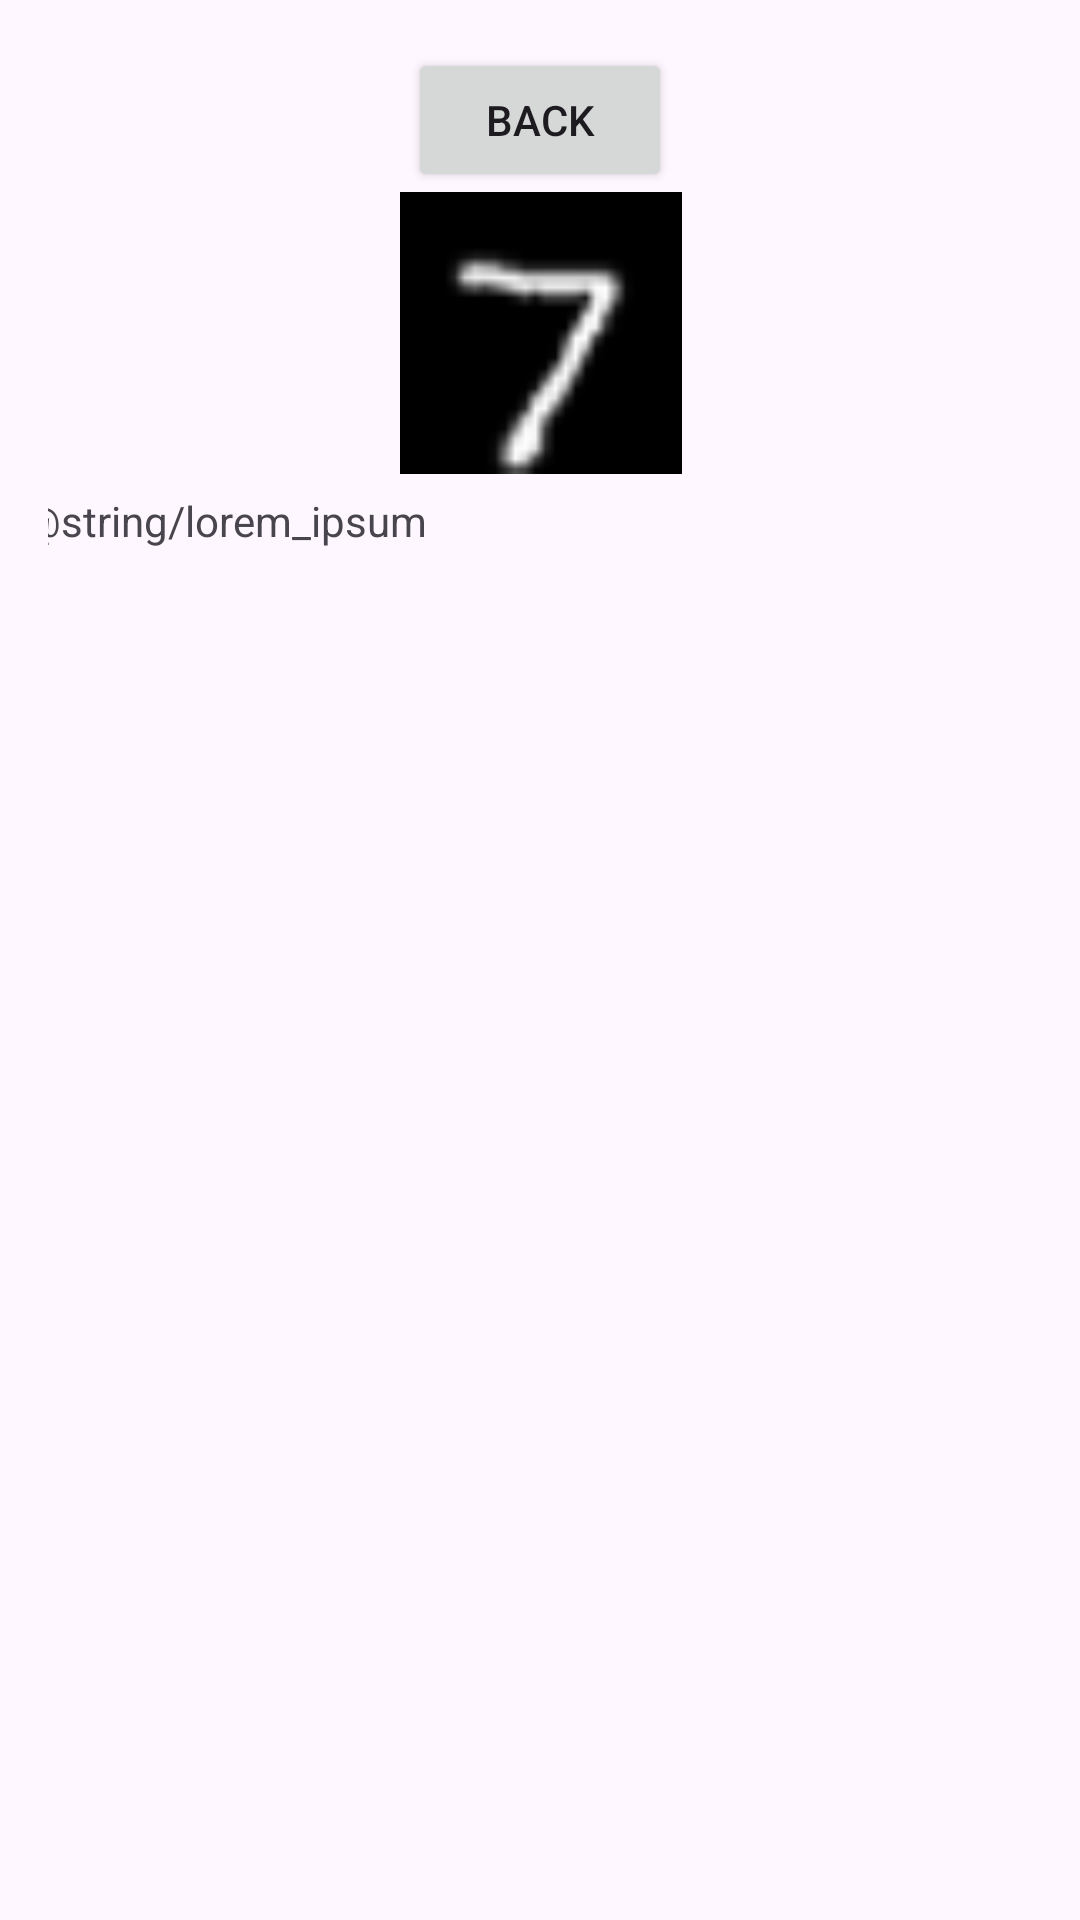

Icons on this 1080w x 1920h Android screen, each with the point to tap as [x,y]:
mnist seven: [541,333]
